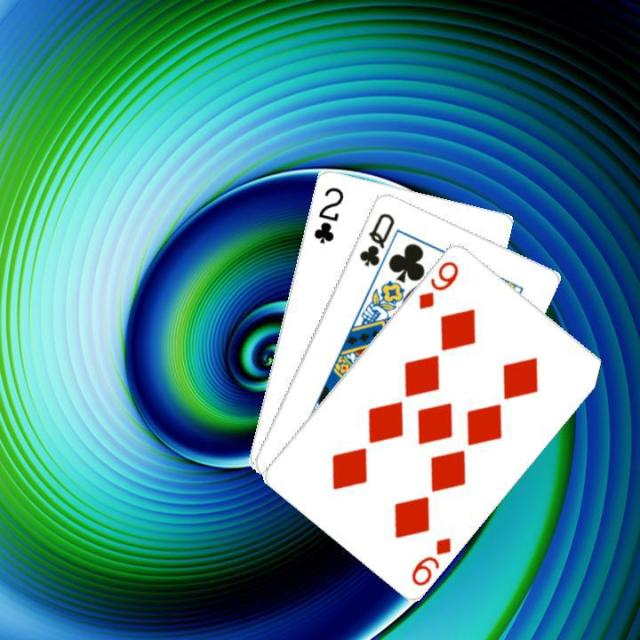2C: (309, 182, 345, 245)
9D: (407, 532, 453, 588), (414, 256, 460, 311)
QC: (354, 208, 396, 268)
